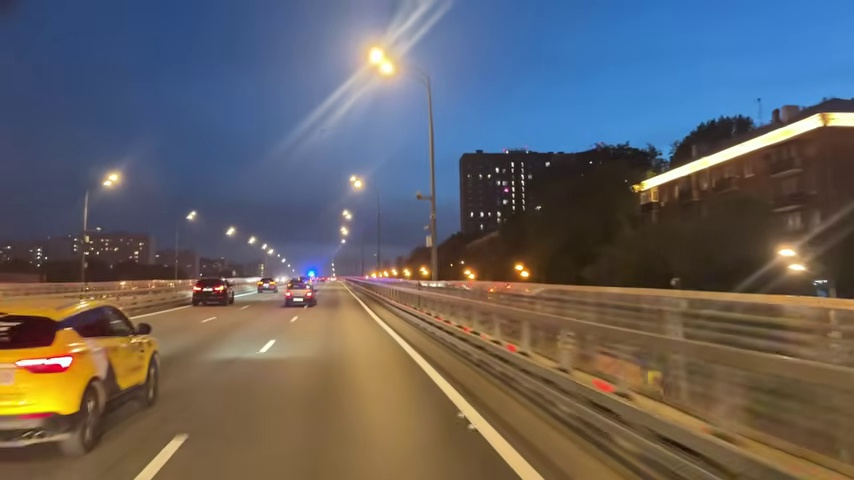acesa: (362, 44, 398, 79), (775, 244, 805, 276), (100, 169, 123, 190), (349, 174, 366, 192), (339, 217, 351, 242), (184, 209, 200, 224), (223, 224, 238, 240), (340, 209, 354, 224)
